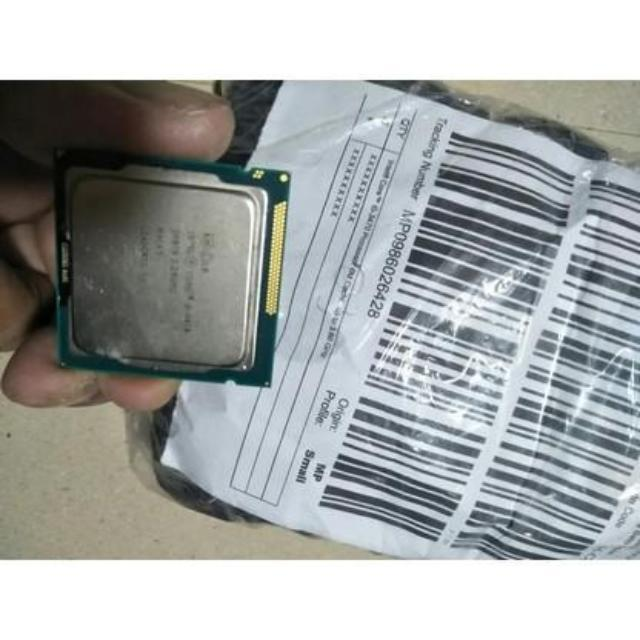CPU: (53, 160, 279, 386)
